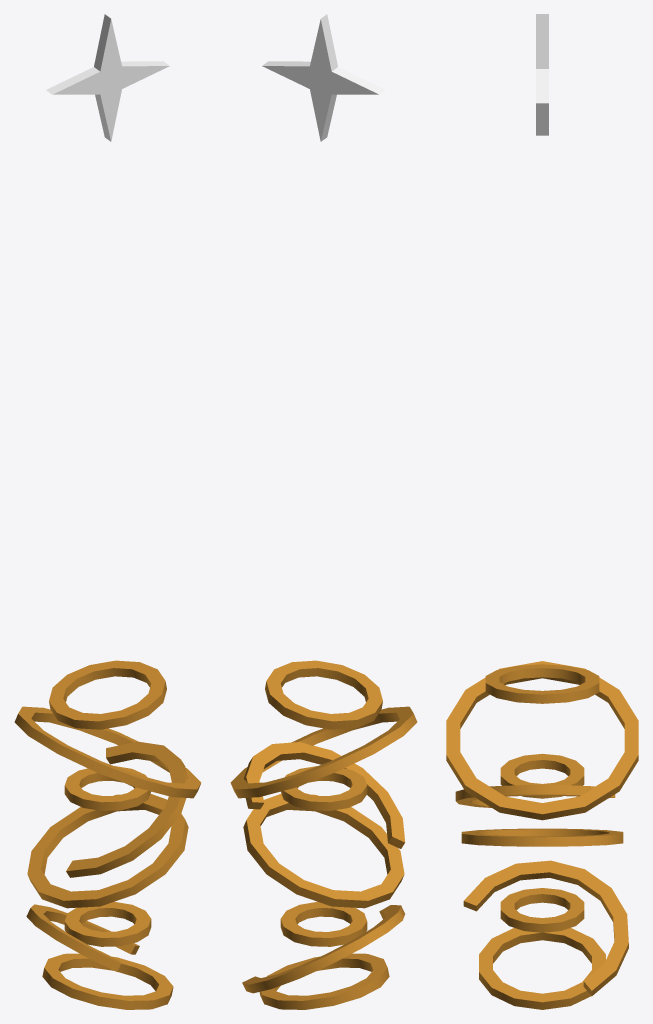
File: rodfx-north-star.glb
3 renders of one model, left to right at view 1: azimuth 30°, elevation 25°; view 2: azimuth 150°, elevation 25°; view 3: azimuth 270°, elevation 25°, orthographic.
Visible parts, largest first — view 1: Rings, Star; view 2: Rings, Star; view 3: Rings, Star.
Part boxes in pixels (x1,y1,x2,y2): Rings: (14,660,201,1009); Star: (46,14,169,141); Rings: (230,660,417,1009); Star: (262,14,385,141); Rings: (446,661,638,1009); Star: (536,14,548,135).
Bounding box in the file's own units: 0.1134 × 0.6689 × 0.1202.
